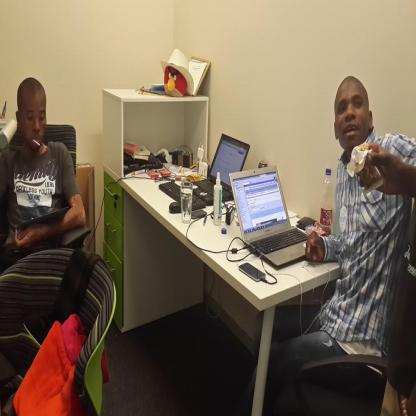board: (229, 166, 309, 267), (184, 132, 250, 206), (320, 168, 333, 235), (213, 171, 223, 225)
